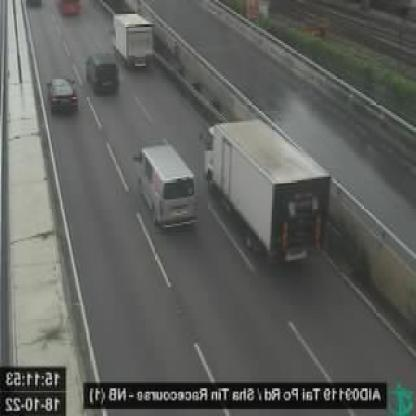Car: (132, 140, 200, 235), (85, 50, 122, 102), (44, 74, 79, 119), (57, 0, 84, 18)
Truck: (202, 120, 333, 269), (109, 12, 156, 75)
